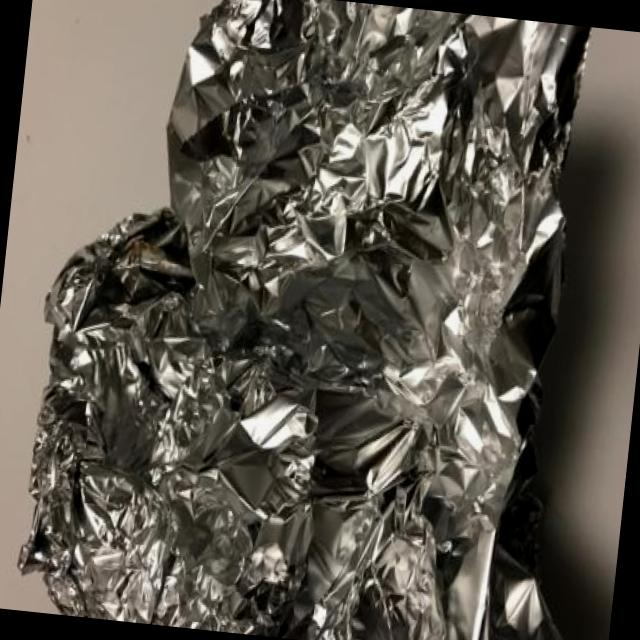kim_loai: (18, 0, 592, 640)
